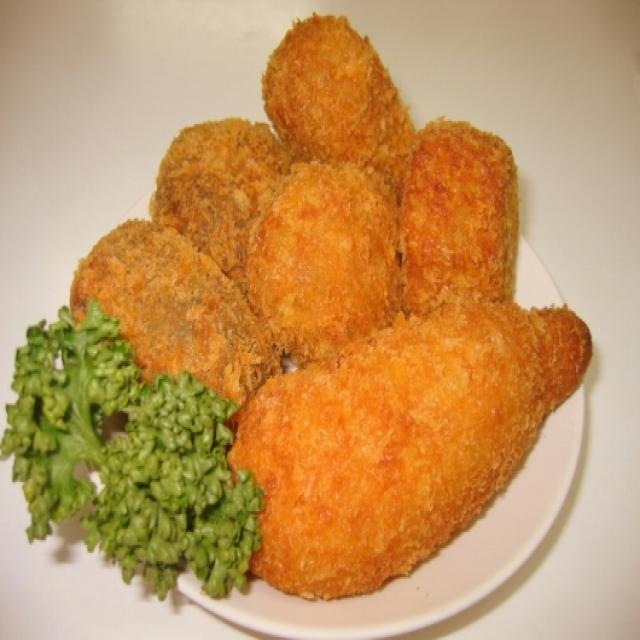炸货点心: (61, 18, 587, 606)
